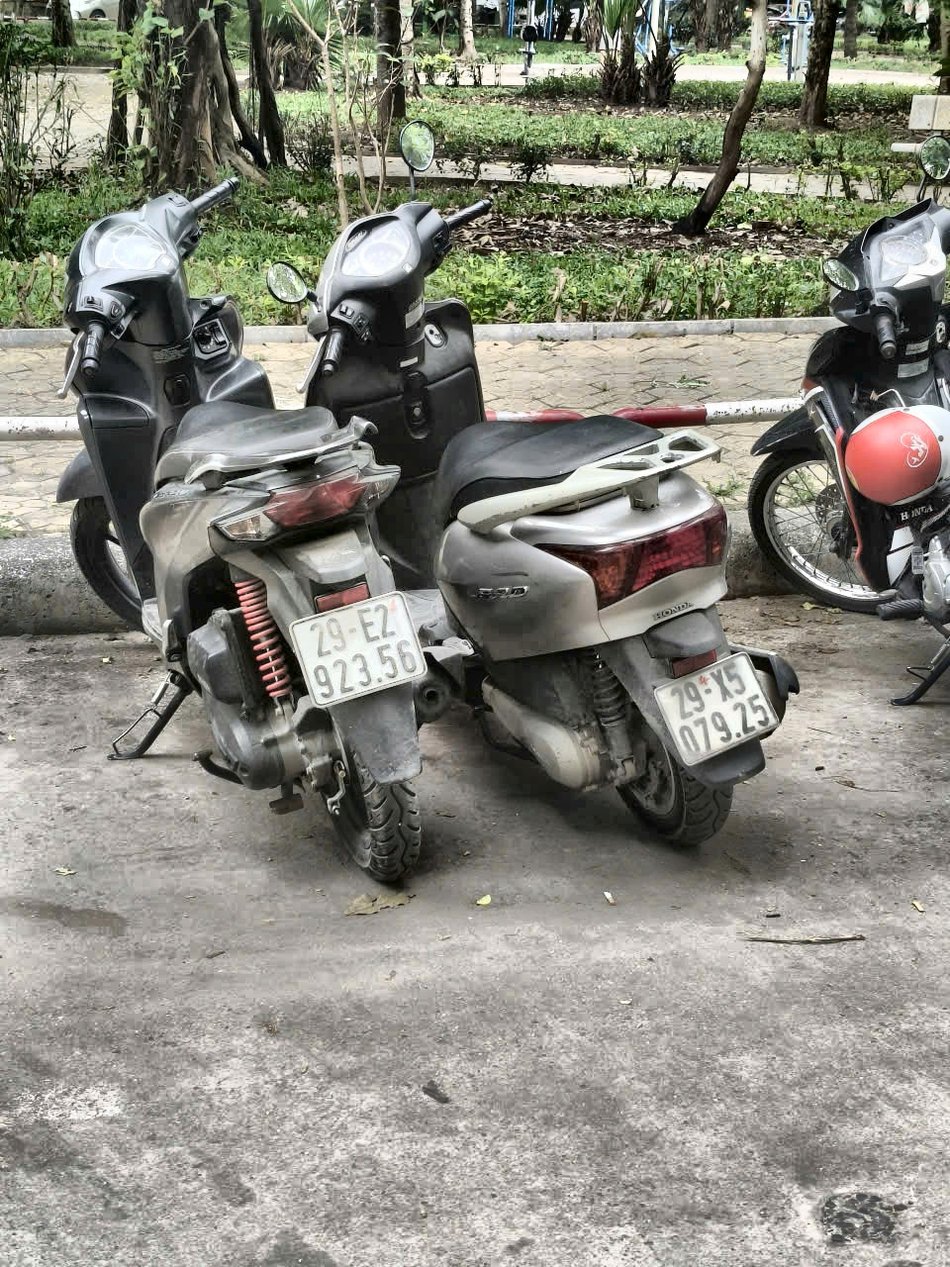plate: (263, 453, 355, 484)
